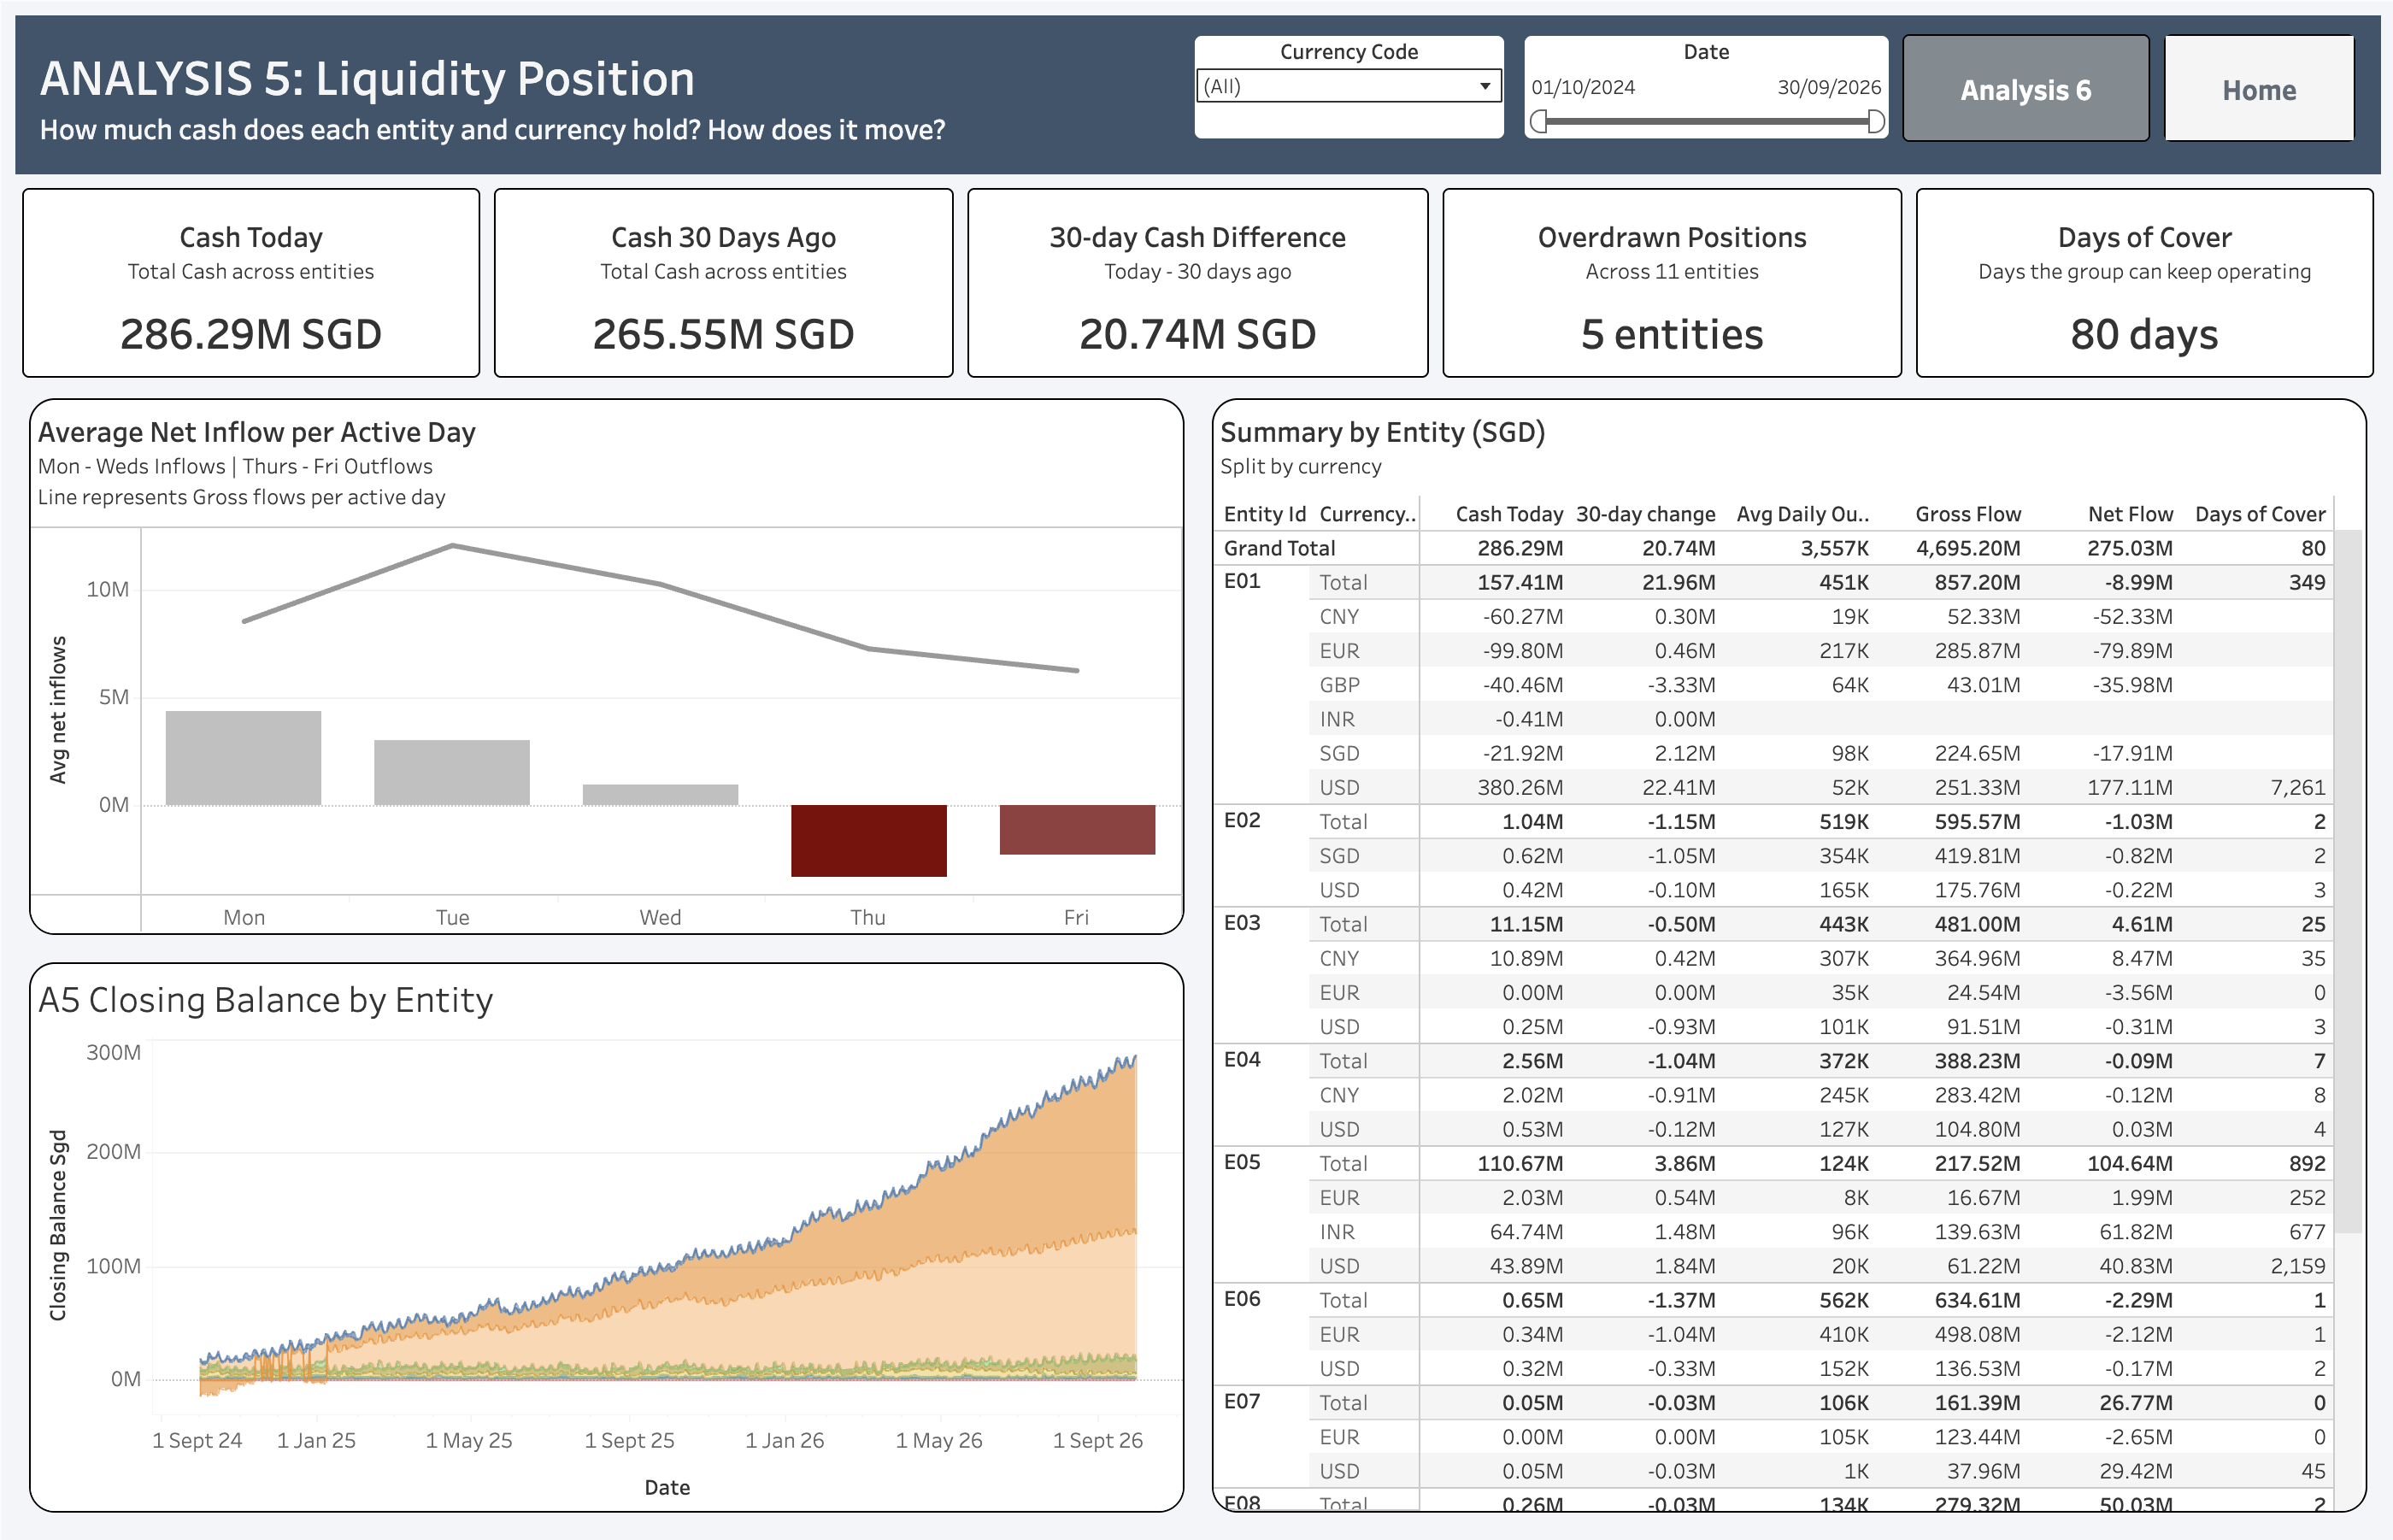

The page's visual inventory and layout, read from the dashboard file:
{"tool":"tableau","page":{"name":"A5 Liquidity Forecast","canvas":[1000,1000],"units":"permille","ordinal":4},"visuals":[{"type":"text","box":[6.2,9.3,987.7,107.3]},{"type":"dashboard-object","box":[794.6,21,103.1,70]},{"type":"dashboard-object","box":[903.9,21,80,70]},{"type":"filter","title":"A5 Summary by Entity","param":"[federated.112y4sn09pf70510qkenc1br50em].[none:currency_code:nk]","box":[498.5,22.2,129.2,66.5]},{"type":"filter","title":"A5 Closing Balance by Entity","param":"[federated.112y4sn09pf70510qkenc1br50em].[none:date:qk]","box":[636.1,22.2,152.3,66.5]},{"type":"worksheet","title":"A5 Cash Today","mark":"Automatic","box":[6.2,116.7,196.9,133]},{"type":"worksheet","title":"A5 Cash 30 Days Ago","mark":"Automatic","box":[203.1,116.7,197.7,133]},{"type":"worksheet","title":"A5 Cash 30 day change","mark":"Automatic","box":[400.8,116.7,198.5,133]},{"type":"worksheet","title":"A5 Overdrawn Positions","mark":"Automatic","box":[599.2,116.7,197.7,133]},{"type":"worksheet","title":"A5 Days of Cover","mark":"Automatic","box":[796.9,116.7,196.9,133]},{"type":"worksheet","title":"A5 Avg Net Inflow per active day","mark":"Bar","rows":["Calculation_0550636435124261","Calculation_0550636435087396"],"cols":["weekday"],"box":[6.2,249.7,493.9,385.1]},{"type":"worksheet","title":"A5 Summary by Entity","mark":"Automatic","rows":["entity_id","currency_code"],"box":[500,249.7,493.9,741]},{"type":"worksheet","title":"A5 Closing Balance by Entity","mark":"Area","rows":["closing_balance_sgd"],"cols":["date"],"box":[6.2,634.7,493.9,355.9]}]}

Visuals, with their boxes on the dashboard's canvas, which has no fixed pixel size, in thousandths of its width and height (x1, y1, x2, y2). These are canvas units, not pixel positions in the 2393x1540 screenshot, which may show the page scaled, cropped or inside an application window:
text: (6, 9, 994, 117)
dashboard-object: (795, 21, 898, 91)
dashboard-object: (904, 21, 984, 91)
"A5 Summary by Entity" filter: (498, 22, 628, 89)
"A5 Closing Balance by Entity" filter: (636, 22, 788, 89)
"A5 Cash Today" worksheet: (6, 117, 203, 250)
"A5 Cash 30 Days Ago" worksheet: (203, 117, 401, 250)
"A5 Cash 30 day change" worksheet: (401, 117, 599, 250)
"A5 Overdrawn Positions" worksheet: (599, 117, 797, 250)
"A5 Days of Cover" worksheet: (797, 117, 994, 250)
"A5 Avg Net Inflow per active day" worksheet (Bar marks): (6, 250, 500, 635)
"A5 Summary by Entity" worksheet: (500, 250, 994, 991)
"A5 Closing Balance by Entity" worksheet (Area marks): (6, 635, 500, 991)
